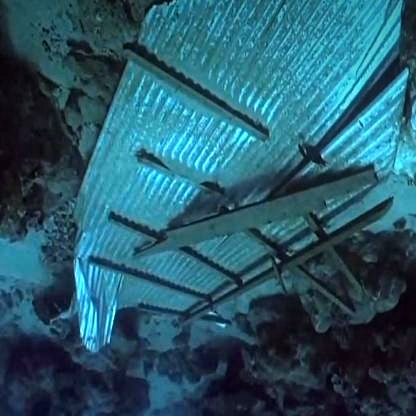metal: (132, 15, 409, 334)
